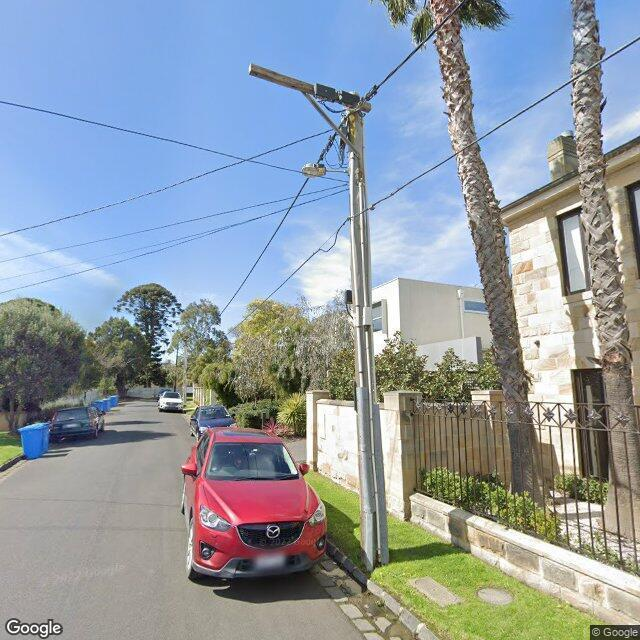crossarm: (248, 64, 371, 112)
streetlight: (302, 162, 349, 178)
timber-pole: (346, 92, 379, 572)
